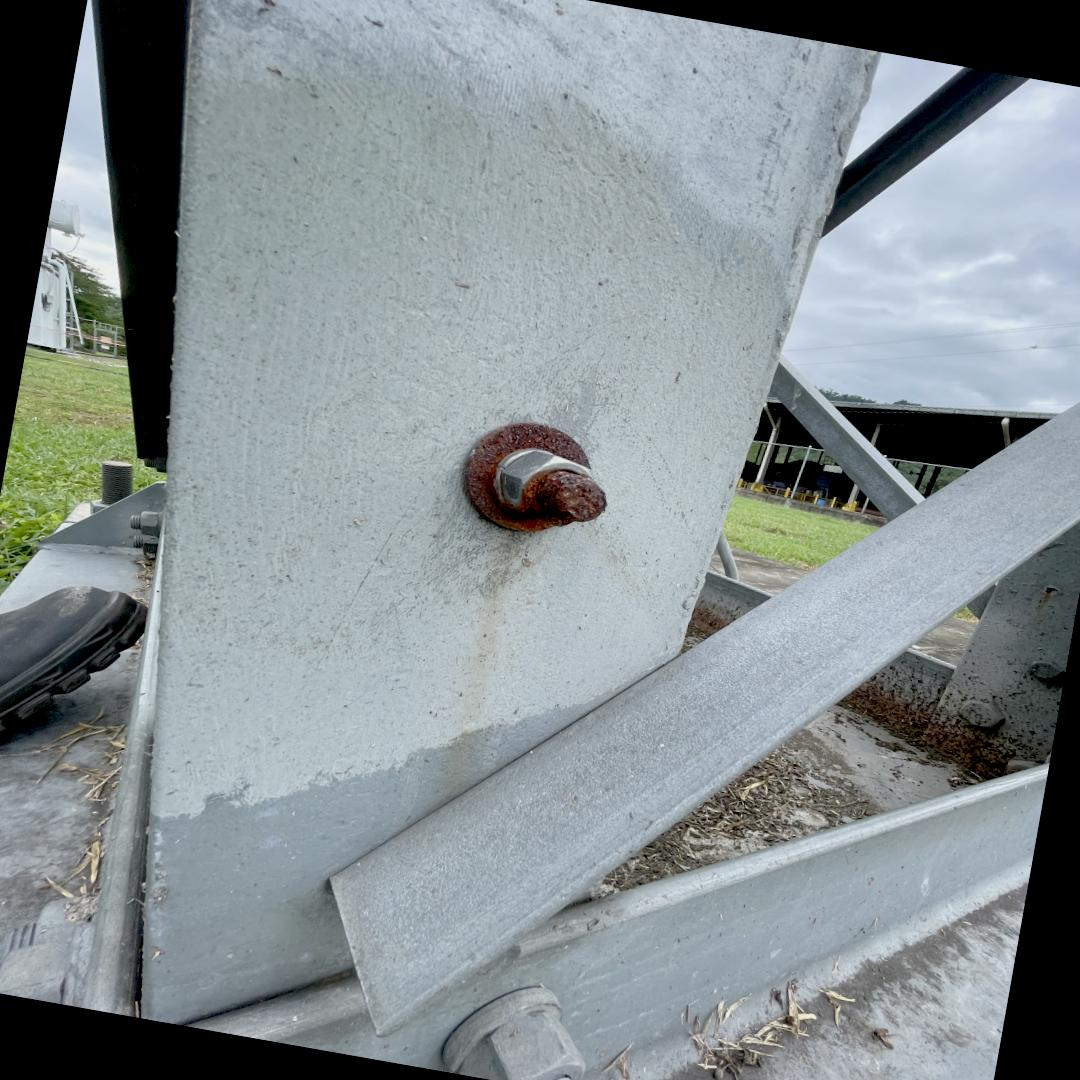Metal: (134, 0, 1080, 1080)
Metal corroido: (454, 421, 608, 536)
Tornillo sin corrosion: (499, 449, 592, 504)
